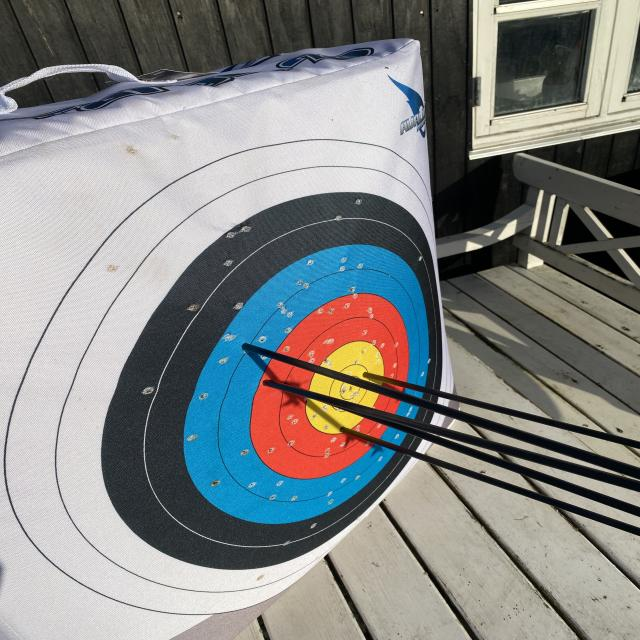Arrow_Blue: (232, 335, 268, 365)
Arrow_Red: (252, 370, 281, 398)
Arrow_Yellow: (354, 366, 392, 393), (315, 388, 346, 416), (330, 422, 361, 445)
